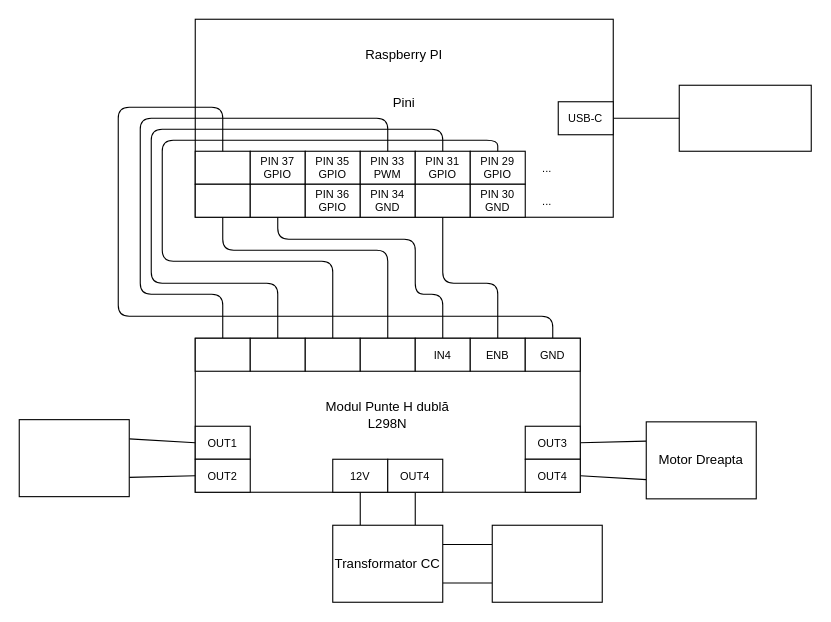
The diagram is 831 pixels wide and 622 high, and some of its shapes have lost their labels. The box of each missing label's shape, as (x1, y1, x2, y2) in pixels:
Acumulator NiMh 7.2V 3000mAh: (491, 524, 602, 602)
Baterie Externă 10000mAh: (678, 84, 811, 151)
ENA: (194, 337, 250, 371)
IN1: (249, 337, 305, 371)
IN2: (304, 337, 360, 371)
IN3: (359, 337, 415, 371)
Motor Stânga: (18, 419, 129, 497)
PIN 32 PWM: (414, 183, 470, 217)
PIN 38 GPIO: (249, 183, 305, 217)
PIN 39 GND: (194, 150, 250, 184)
PIN 40 GPIO: (194, 183, 250, 217)
